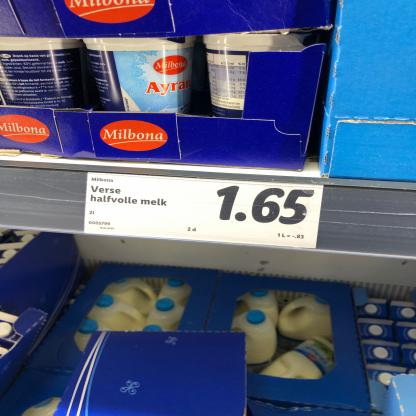prtg: (85, 173, 326, 250)
